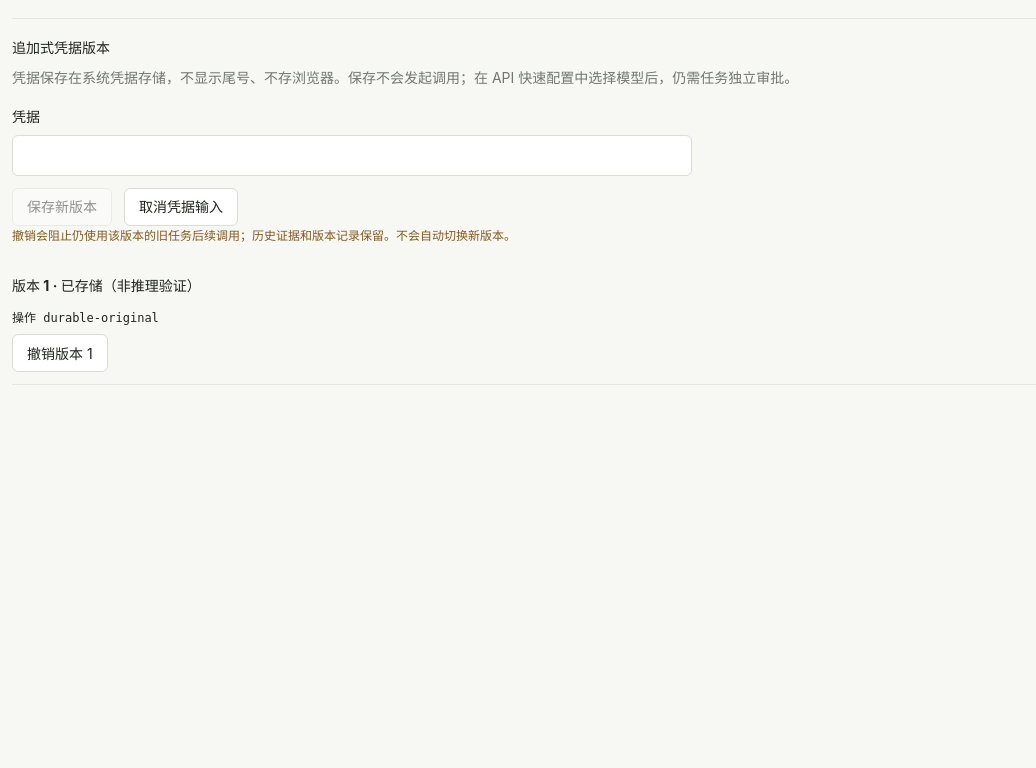
Test: an uncertain revoke only queries its original version operation and stays locked on an available receipt
Click the button with aria-label "撤销 Synthetic lifecycle 版本 1" at (60, 353), box [12,334,108,372]
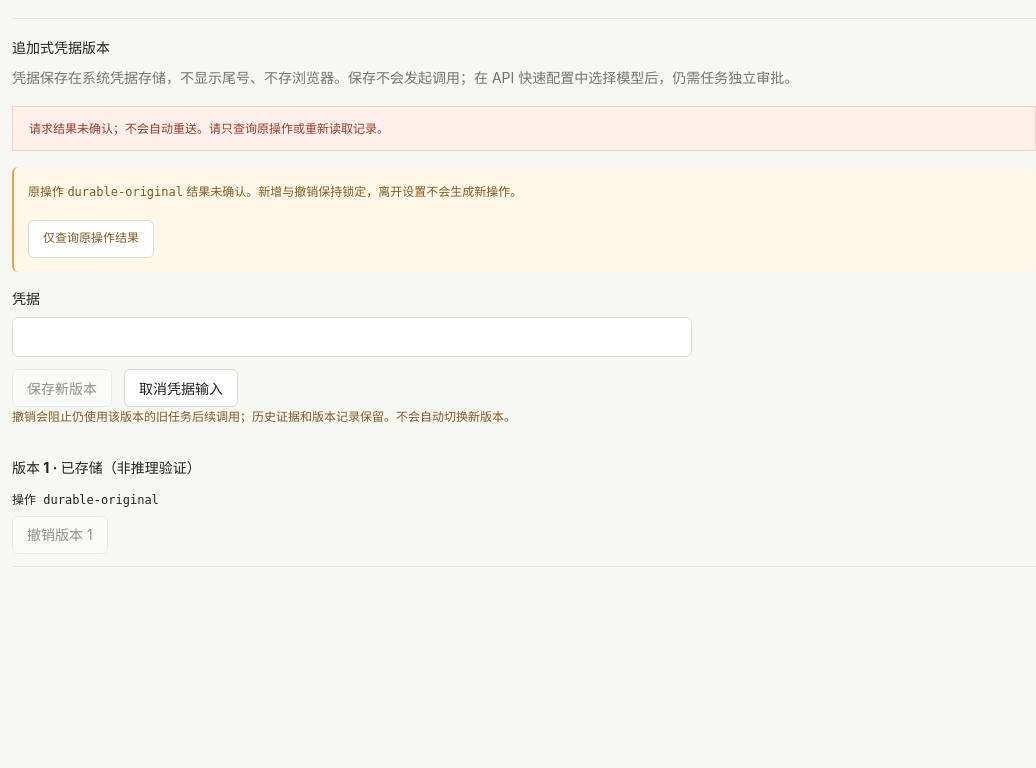
Now the button "仅查询原操作结果" is enabled
Click the button "仅查询原操作结果" at (91, 239), box [28,220,154,258]
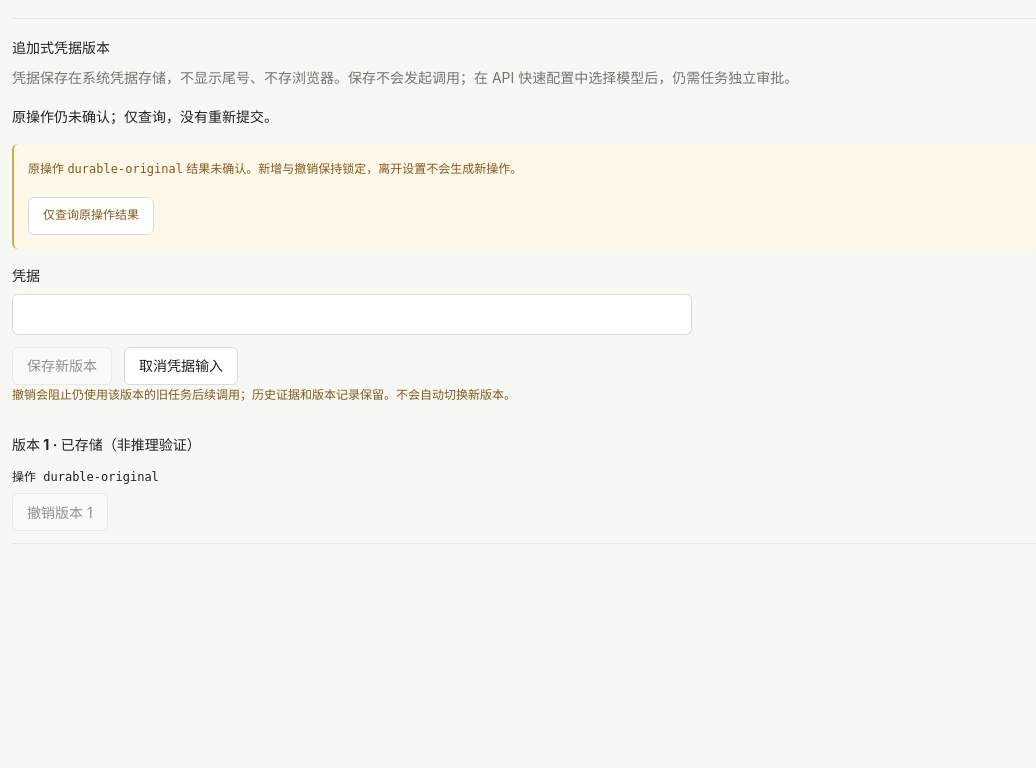
Now the button with aria-label "撤销 Synthetic lifecycle 版本 1" is disabled, box [12,493,108,531]
Now the button "仅查询原操作结果" is enabled
Click the button "仅查询原操作结果" at (91, 216), box [28,197,154,235]
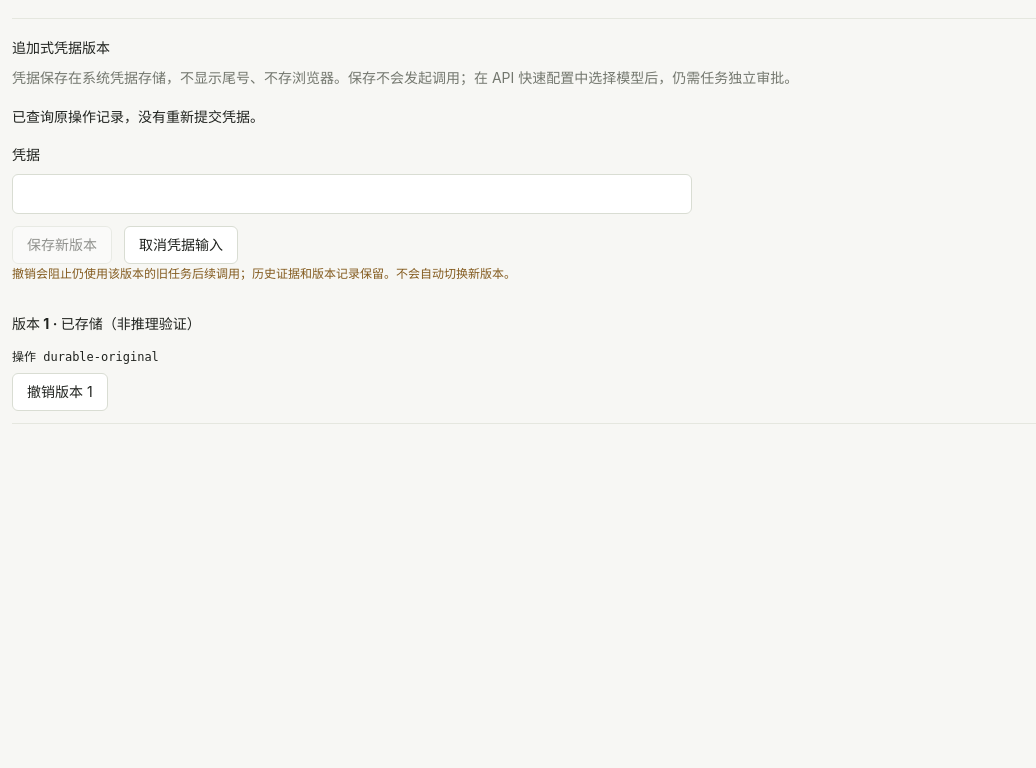
Now the button "仅查询原操作结果" is gone
